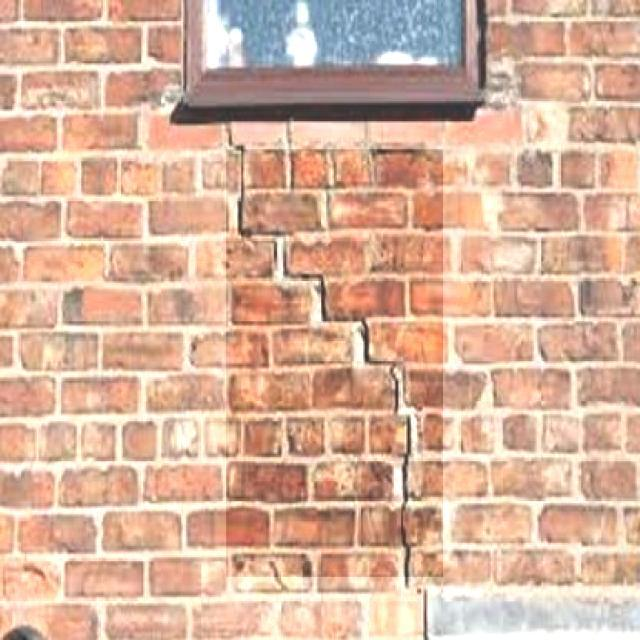SurfaceCrack: (216, 144, 438, 606)
